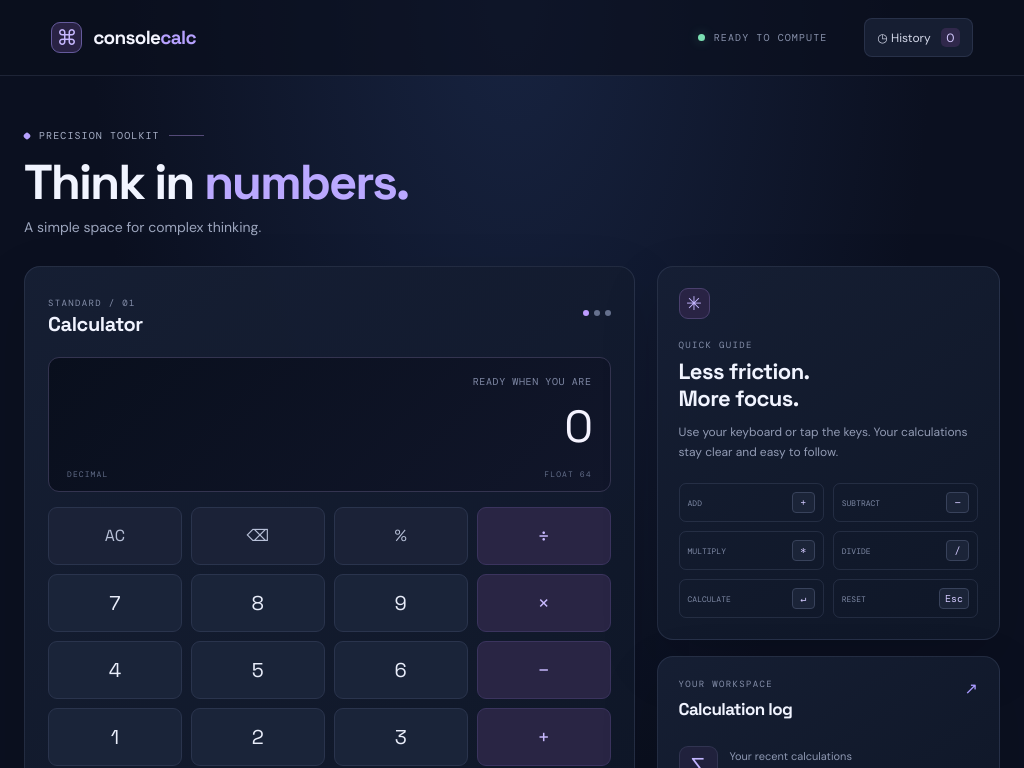
Test case: Calculator UI › shows an accessible error on division by zero and can recover
This screenshot has width=1024, height=768.
What coordinates should you click on to do the following:
click the button "8"
I would click on:
 (258, 603)
Its box is x1=191 y1=574 x2=325 y2=632.
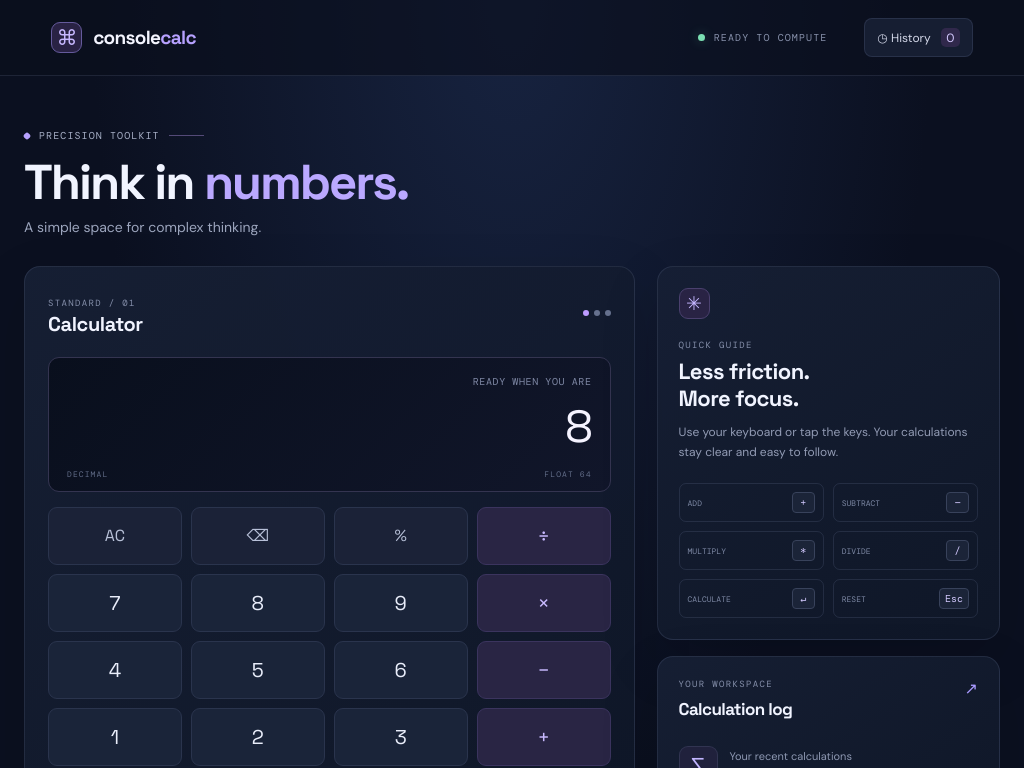
What coordinates should you click on to do the following:
click the button "÷"
I would click on:
 (544, 536)
Its box is x1=477 y1=507 x2=611 y2=565.
(page scrolled)
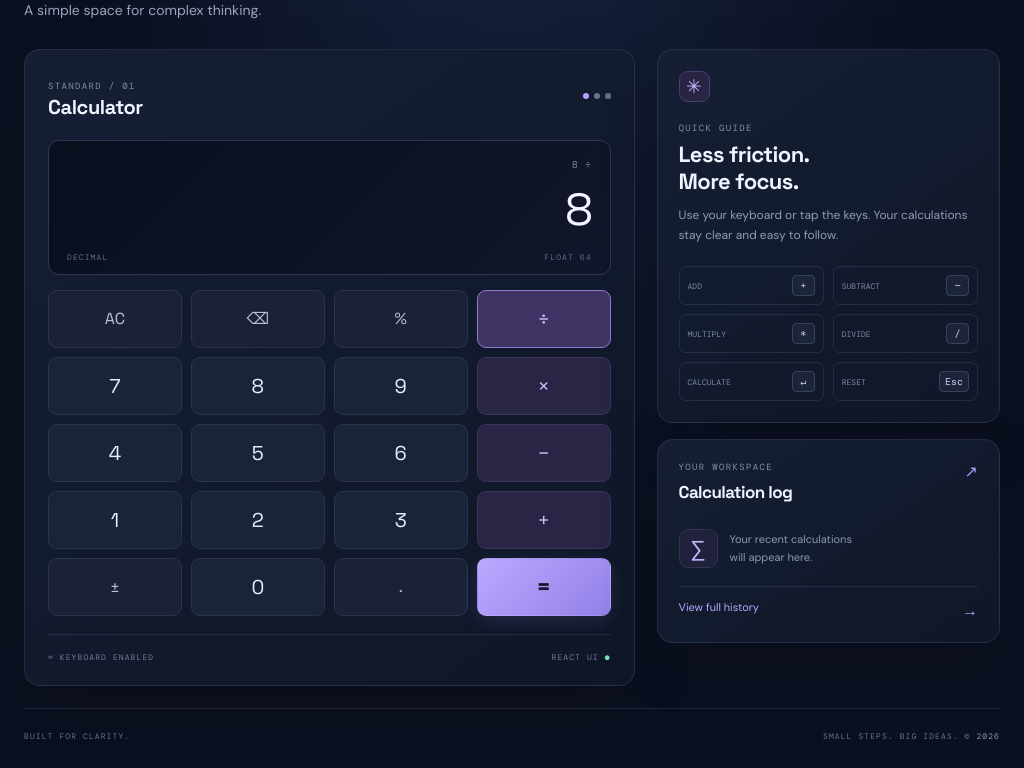
What coordinates should you click on to do the following:
click the button "0"
I would click on:
 (258, 587)
Its box is x1=191 y1=558 x2=325 y2=616.
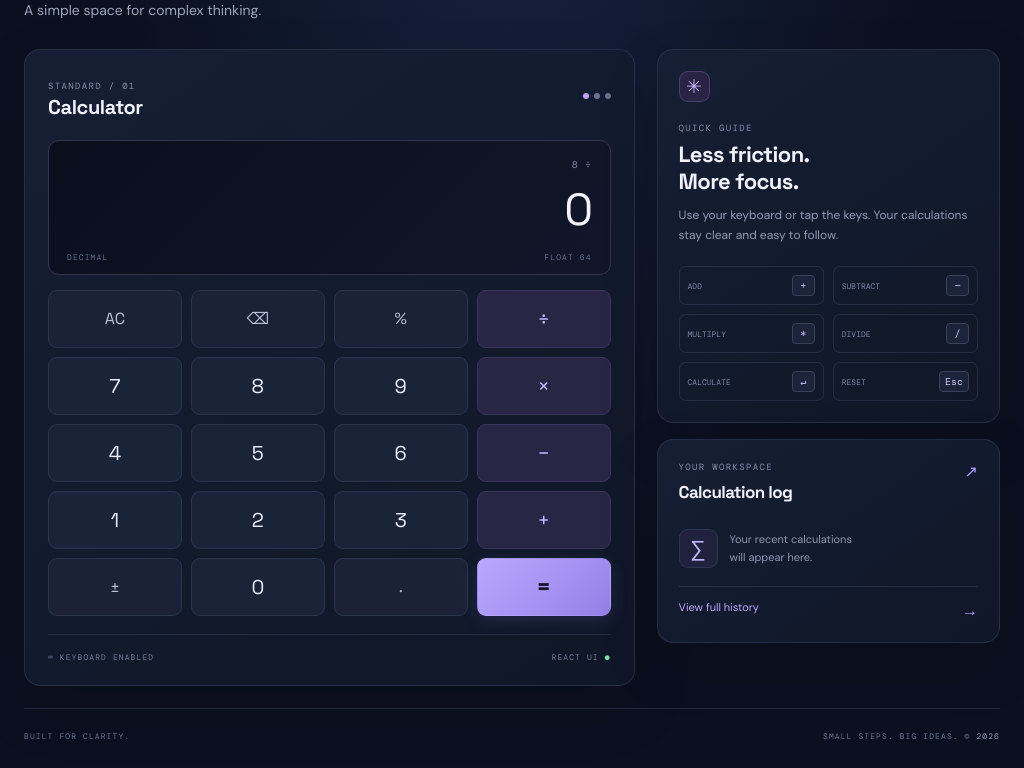
What coordinates should you click on to do the following:
click the button "="
I would click on:
 (544, 587)
Its box is x1=477 y1=558 x2=611 y2=616.
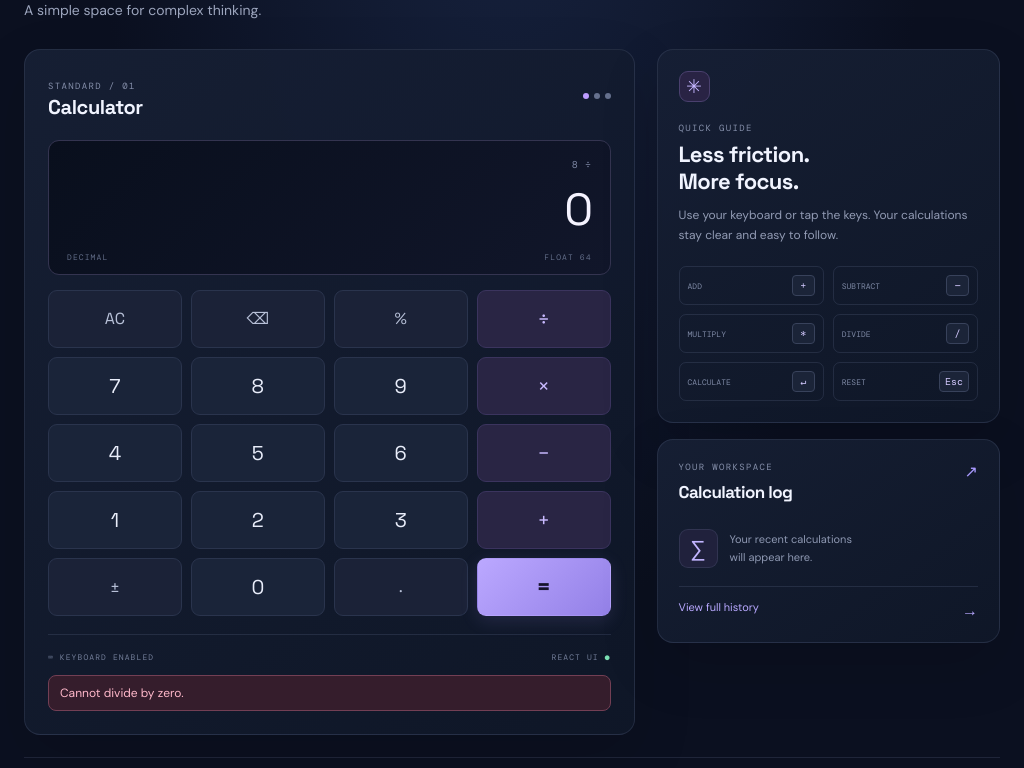
expect the message shows "Cannot divide by zero": met, box x1=60 y1=685 x2=184 y2=701
What coordinates should you click on to do the following:
click the button "AC"
I would click on:
 (115, 319)
Its box is x1=48 y1=290 x2=182 y2=348.
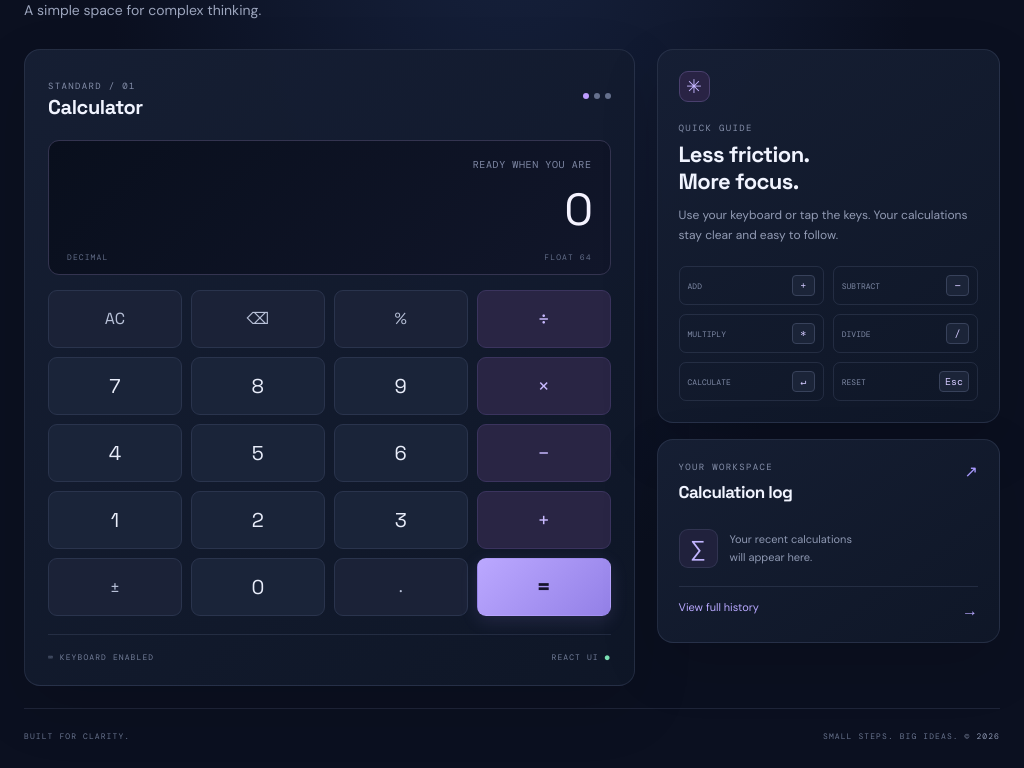
expect the text "0" is shown: met, box x1=564 y1=181 x2=592 y2=238
expect the message "Cannot divide by zero." is gone: met
